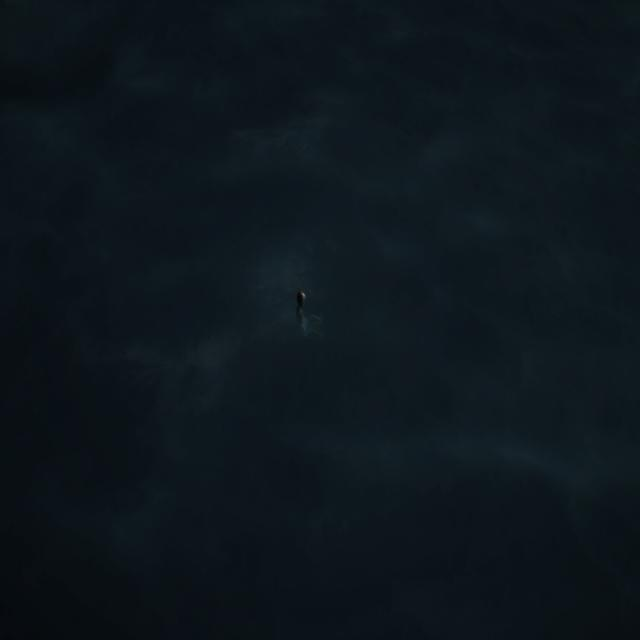Human: (291, 290, 334, 350)
